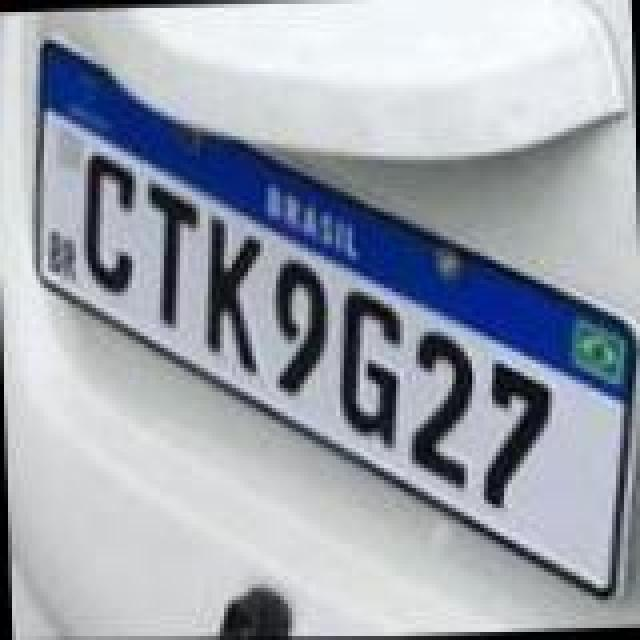2: (404, 324, 484, 496)
7: (476, 352, 556, 508)
9: (272, 254, 336, 398)
C: (76, 150, 140, 298)
G: (334, 280, 406, 456)
K: (196, 216, 268, 380)
T: (144, 176, 204, 328)
